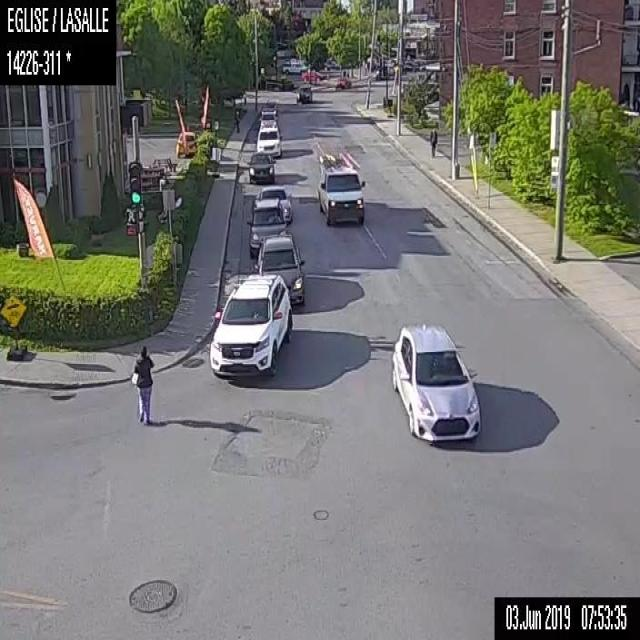pedestrian: (130, 344, 153, 424), (429, 126, 436, 158), (234, 104, 240, 132)
vehicle: (390, 322, 481, 442), (209, 273, 292, 377), (253, 230, 306, 309), (316, 147, 366, 224), (245, 196, 288, 255), (257, 184, 292, 222), (248, 151, 275, 184), (255, 125, 281, 158), (175, 129, 198, 157), (294, 82, 312, 103), (282, 58, 307, 71), (258, 109, 278, 125), (301, 68, 325, 81), (334, 76, 352, 90)
